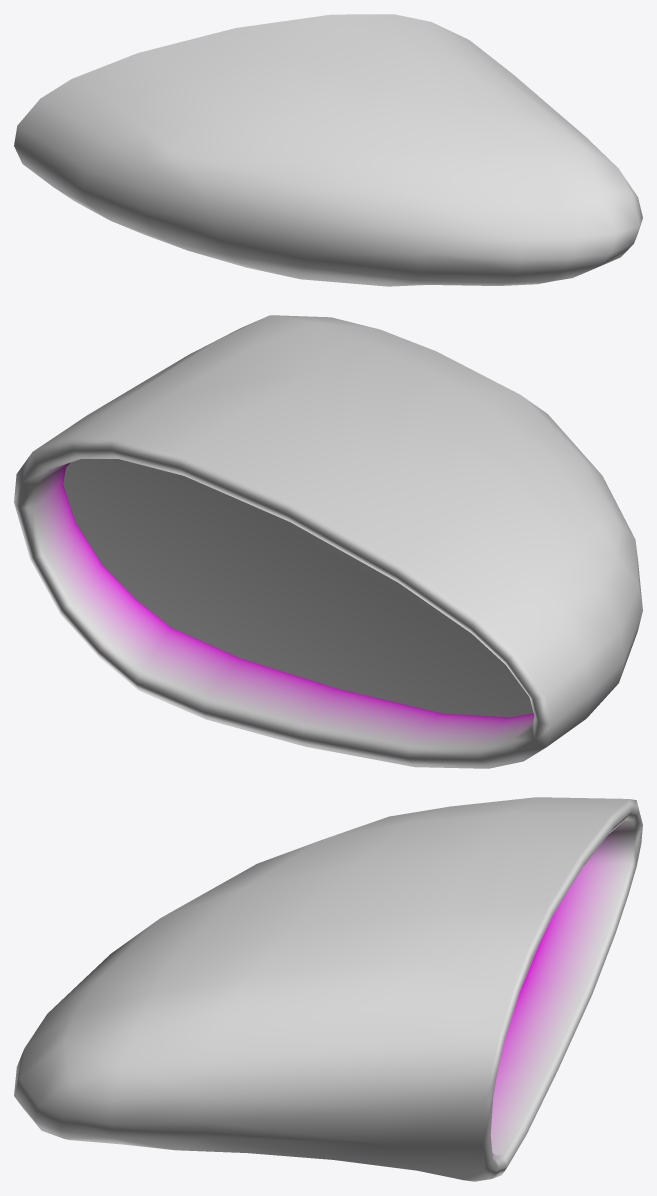
File: Car_Ford_GT_2017_MirrorR_SetE.fbx
The picture shows the model from 3 angles, top to bottom: view 1: azimuth 30°, elevation 25°; view 2: azimuth 150°, elevation 25°; view 3: azimuth 270°, elevation 25°; orthographic projection. The views are drawn at different scales.
Visible parts, largest first — view 1: MirrorR 6; view 2: MirrorR 6; view 3: MirrorR 6.
Part boxes in pixels (box(x1,y1,x2,y2)): MirrorR 6: box(14, 14, 642, 286); MirrorR 6: box(14, 315, 642, 768); MirrorR 6: box(14, 797, 642, 1181).
Size of the model in its own units: 0.1911 by 0.0798 by 0.1882.
